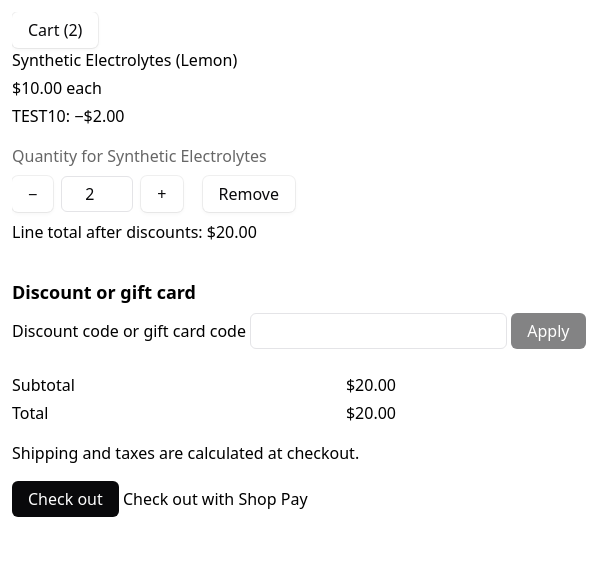
Test case: cart › keeps a code that wasn't applied, and shows applied codes in capitals
Check: the button with aria-label "Cart, 2 items" is shown, box [12,12,98,48]
Step 1. Type "tst10" into the field labelled "Discount code or gift card code" → (379,331), box [250,313,507,349]
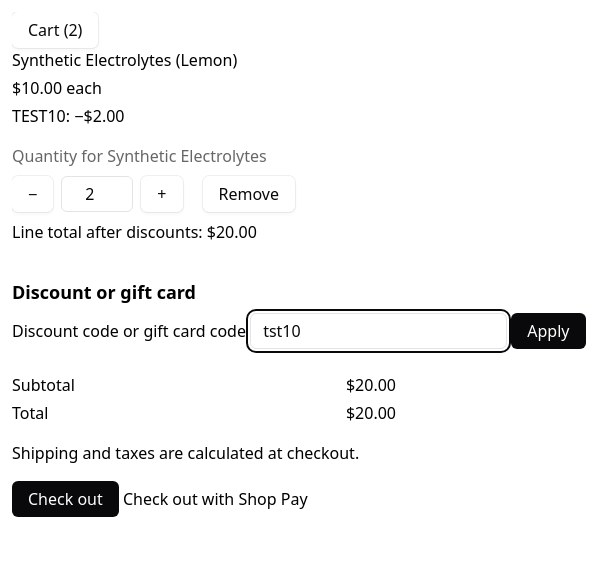
Step 2. Click the button "Apply" → (548,331), box [511,313,586,349]
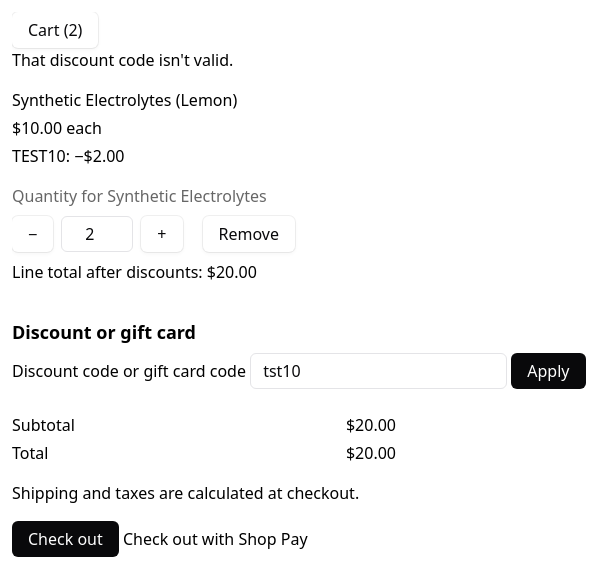
Check: the message "That discount code isn't valid." is shown, box [12,49,233,71]
Step 3. Replace the text in the field labelled "Discount code or gift card code" with "test10" → (379,371), box [250,353,507,389]
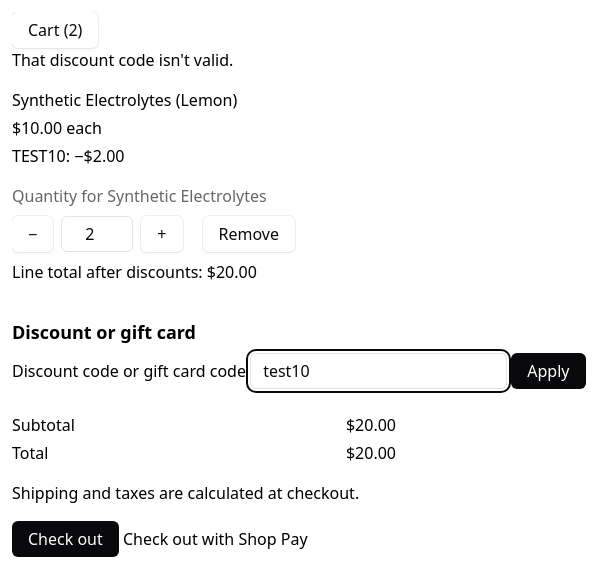
Step 4. Click the button "Apply" → (548,371), box [511,353,586,389]
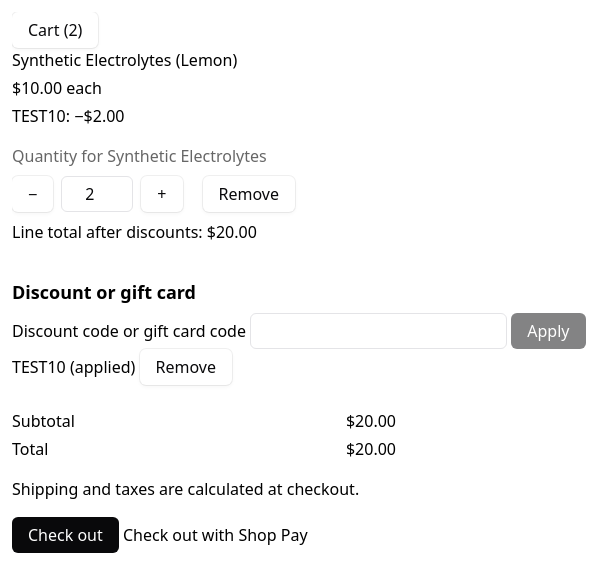
Check: the list item "TEST10 (applied) Remove" is shown, box [12,349,232,385]
